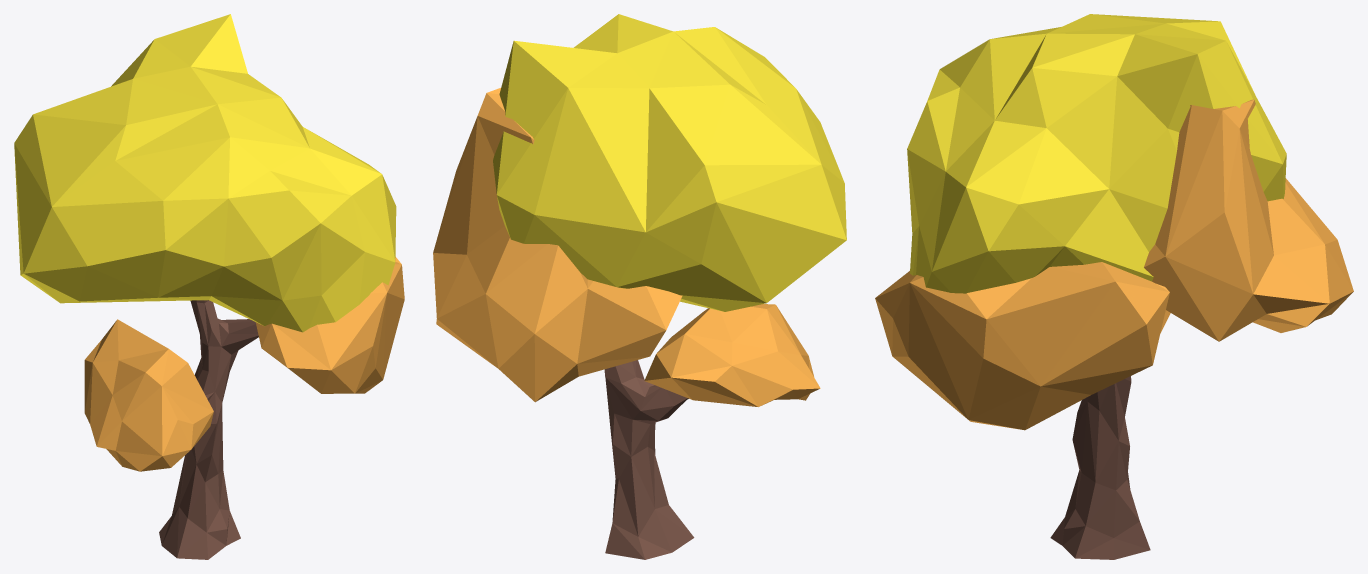
Rendered from Tree_025.glb.
3 renders of one model, left to right at view 1: azimuth 30°, elevation 25°; view 2: azimuth 150°, elevation 25°; view 3: azimuth 270°, elevation 25°, orthographic. The views are drawn at different scales.
Visible parts, largest first — view 1: Tree_025; view 2: Tree_025; view 3: Tree_025.
Part boxes in pixels (x1=…): Tree_025: x1=14, y1=14, x2=404, y2=559; Tree_025: x1=433, y1=14, x2=846, y2=559; Tree_025: x1=875, y1=14, x2=1353, y2=559.
Size of the model in its own units: 6.72 by 9.07 by 7.36.
1 material, 1 textured.
